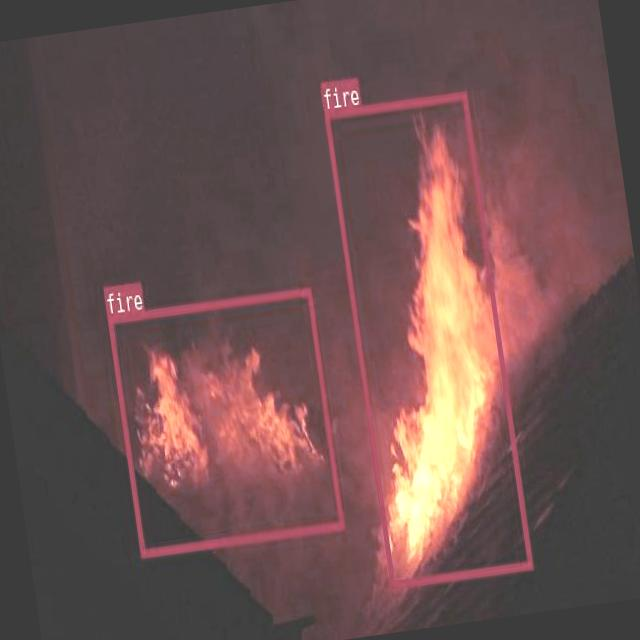fire: (322, 92, 532, 588), (106, 286, 344, 556)
